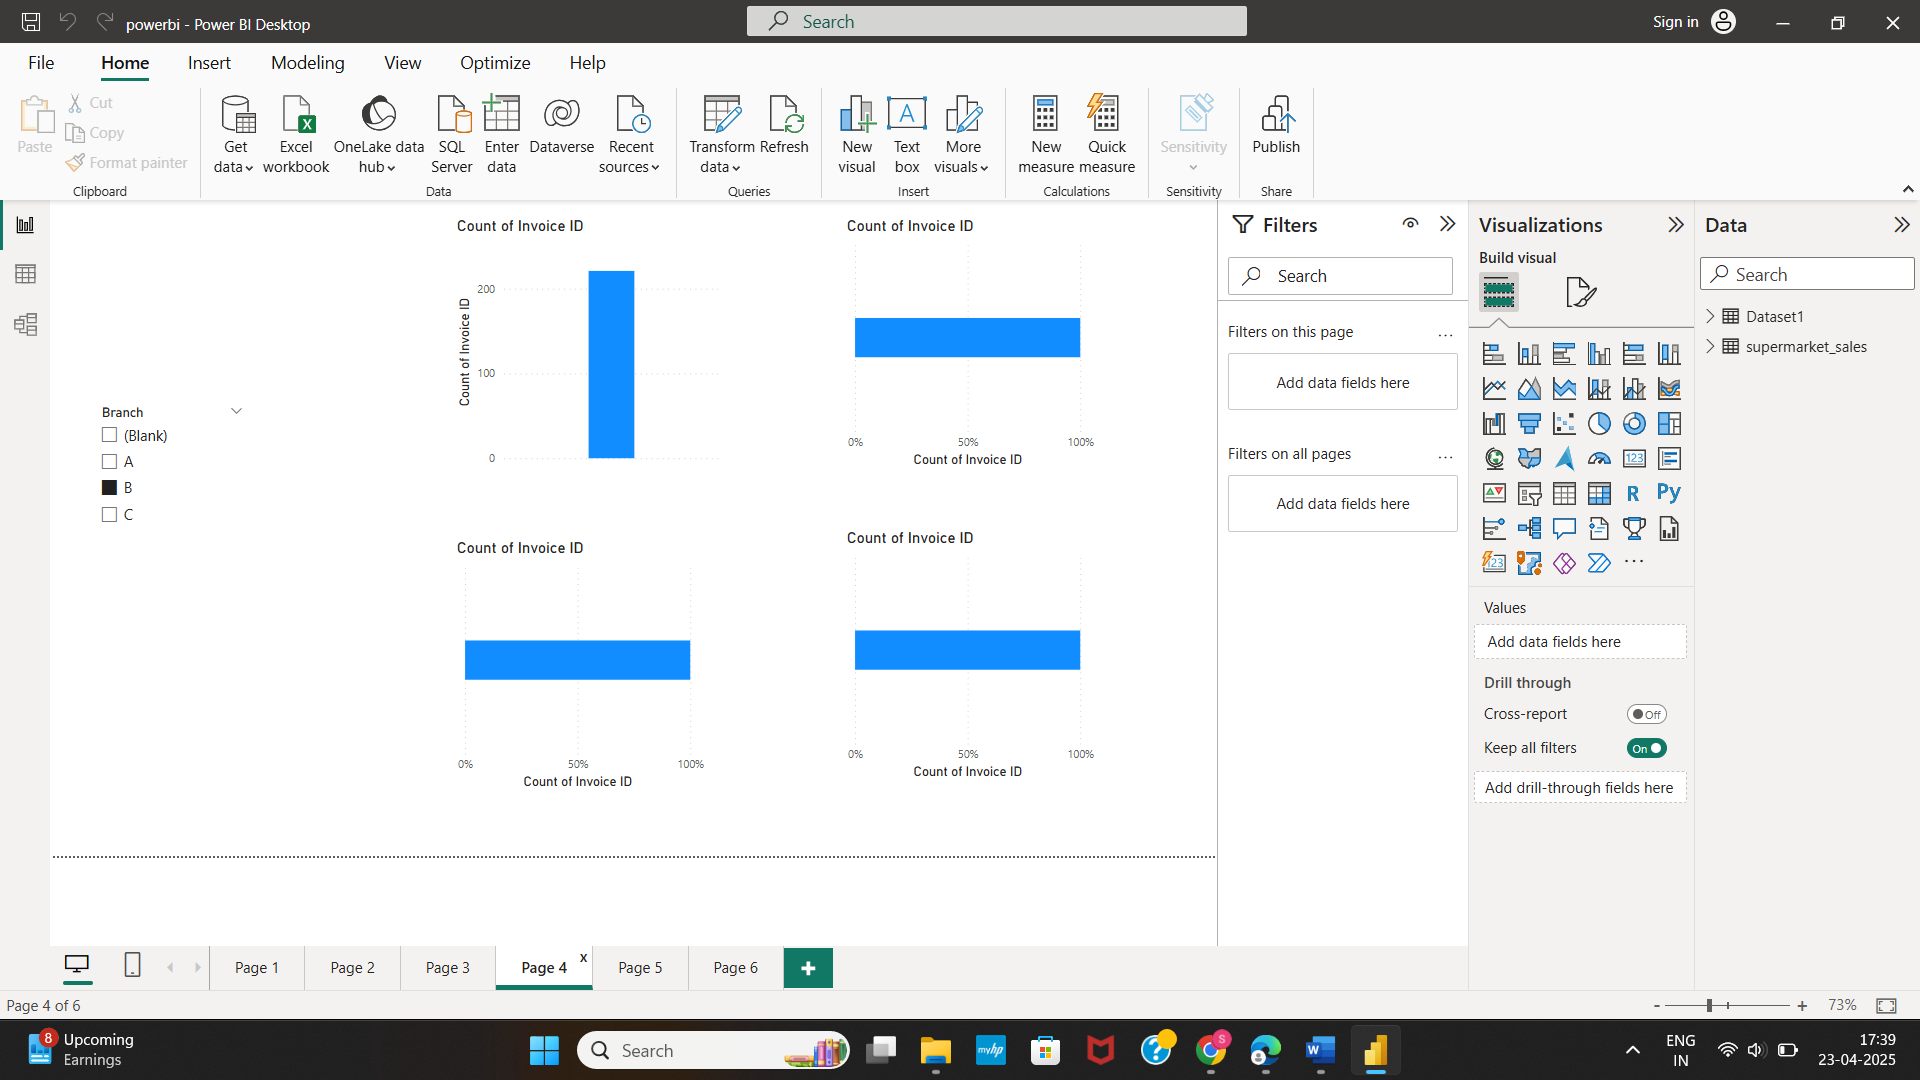

What the dashboard file says about the page in this screenshot:
{"tool":"powerbi","page":{"name":"Page 4","canvas":[1280,720],"ordinal":3},"visuals":[{"type":"columnChart","fields":{"Y":["CountNonNull(supermarket_sales.Invoice ID)"]},"box":[441.5,17.8,300.3,279.7],"z":0},{"type":"hundredPercentStackedBarChart","fields":{"Y":["CountNonNull(supermarket_sales.Invoice ID)"]},"box":[869.2,17.8,281.1,279.7],"z":1000},{"type":"hundredPercentStackedBarChart","fields":{"Y":["CountNonNull(supermarket_sales.Invoice ID)"]},"box":[441.5,371.6,281.1,279.7],"z":2000},{"type":"hundredPercentStackedBarChart","fields":{"Y":["CountNonNull(supermarket_sales.Invoice ID)"]},"box":[869.2,360.6,281.1,279.7],"z":3000},{"type":"slicer","fields":{"Values":["supermarket_sales.Branch"]},"box":[43.9,219.4,179.6,281.1],"z":4000}]}

Visuals, with their boxes on the page's 1280x720 design canvas (x1, y1, x2, y2). These are canvas units, not pixel positions in the 1920x1080 screenshot, which may show the page scaled, cropped or inside an application window:
columnChart - CountNonNull(supermarket_sales.Invoice ID): Rect(442, 18, 742, 298)
hundredPercentStackedBarChart - CountNonNull(supermarket_sales.Invoice ID): Rect(869, 18, 1150, 298)
hundredPercentStackedBarChart - CountNonNull(supermarket_sales.Invoice ID): Rect(442, 372, 723, 651)
hundredPercentStackedBarChart - CountNonNull(supermarket_sales.Invoice ID): Rect(869, 361, 1150, 640)
slicer - supermarket_sales.Branch: Rect(44, 219, 224, 500)
